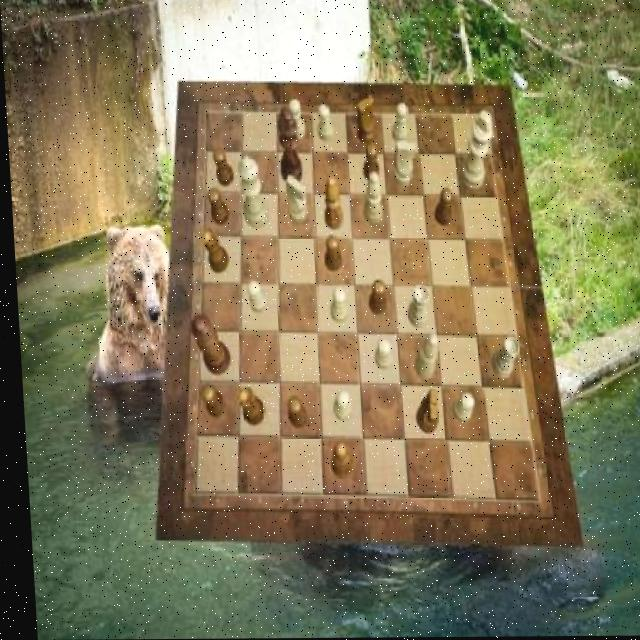bishop: (320, 175, 340, 229), (323, 443, 347, 479)
black-bishop: (275, 108, 301, 186)
black-king: (410, 388, 436, 434), (353, 95, 374, 146)
black-knight: (429, 188, 451, 227), (204, 188, 226, 226), (210, 148, 232, 186), (195, 383, 219, 417), (363, 279, 383, 315), (360, 144, 378, 183), (320, 237, 339, 273), (282, 397, 301, 429)
black-pawn: (187, 316, 227, 376)
black-queen: (198, 228, 225, 274), (233, 388, 261, 427)
black-rook: (408, 334, 435, 380), (360, 172, 381, 226)
white-bishop: (455, 111, 494, 191)
white-king: (388, 142, 415, 188), (282, 176, 304, 223)
white-knight: (389, 104, 408, 144), (242, 280, 264, 314), (287, 101, 305, 141), (325, 288, 344, 324), (315, 104, 333, 142), (369, 339, 389, 372), (445, 395, 469, 422), (327, 390, 346, 423)
white-pawn: (234, 157, 264, 229)
white-queen: (485, 335, 516, 378), (401, 285, 426, 329)
